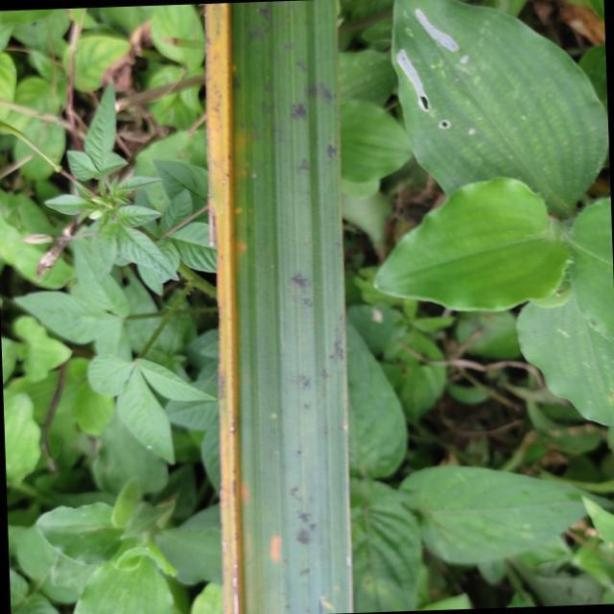Megnesium: (200, 0, 355, 614)
